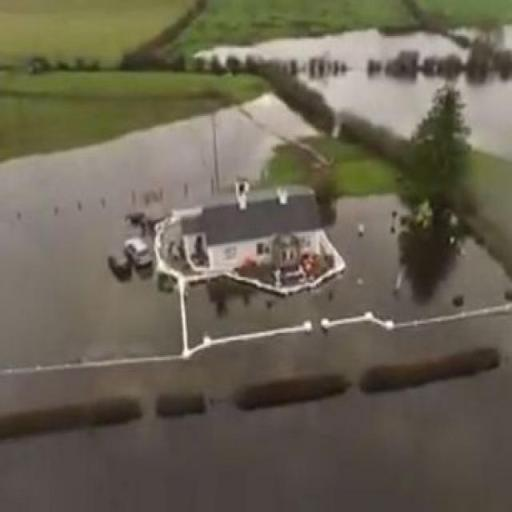flood: (0, 194, 512, 414), (0, 321, 512, 512), (0, 92, 319, 369), (202, 30, 512, 160), (494, 26, 512, 48)
house: (193, 186, 325, 272)
